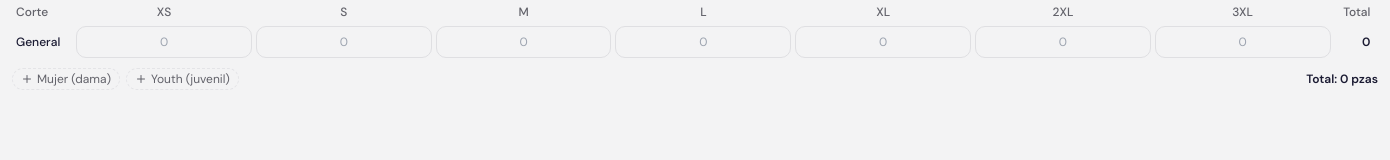
SizeGrid › captura cantidades y calcula el total
In the field named "General S": coordinates (344, 42) x1=256 y1=26 x2=432 y2=58, type "5"
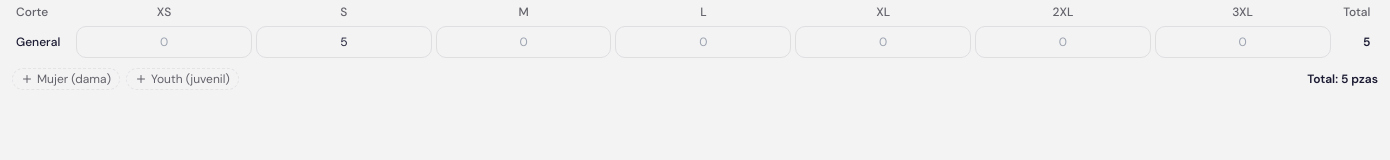
In the field named "General M": coordinates (524, 42) x1=436 y1=26 x2=612 y2=58, type "2"
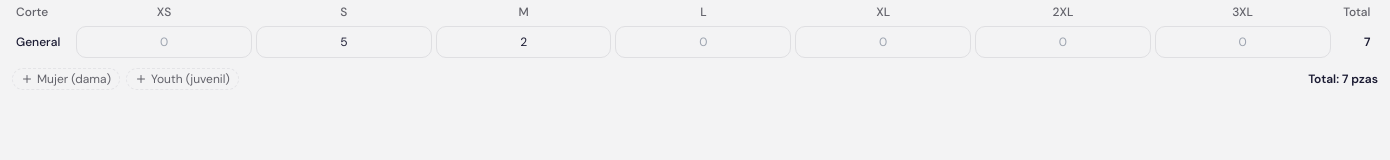
Now the text with test id "t-total" shows "7 pzas", box x1=1342 y1=71 x2=1378 y2=87
